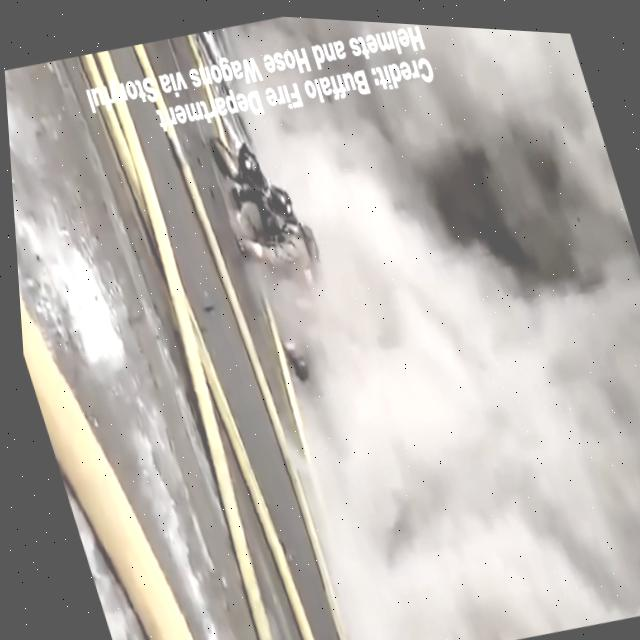Smoke: (228, 198, 640, 640)
